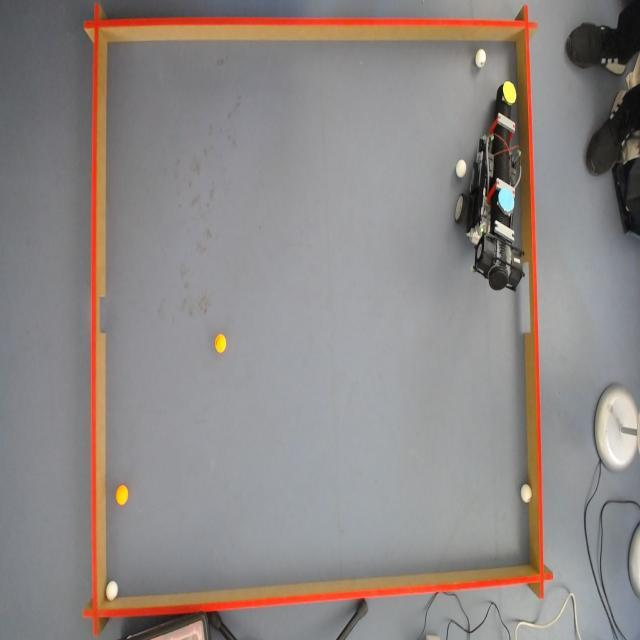orange: (115, 484, 131, 506), (216, 334, 230, 354)
robot: (454, 91, 531, 298)
robot-front: (502, 80, 516, 104)
robot-rear: (498, 188, 514, 212)
white: (106, 580, 120, 600), (454, 158, 466, 180), (476, 50, 488, 69), (520, 482, 531, 502)
